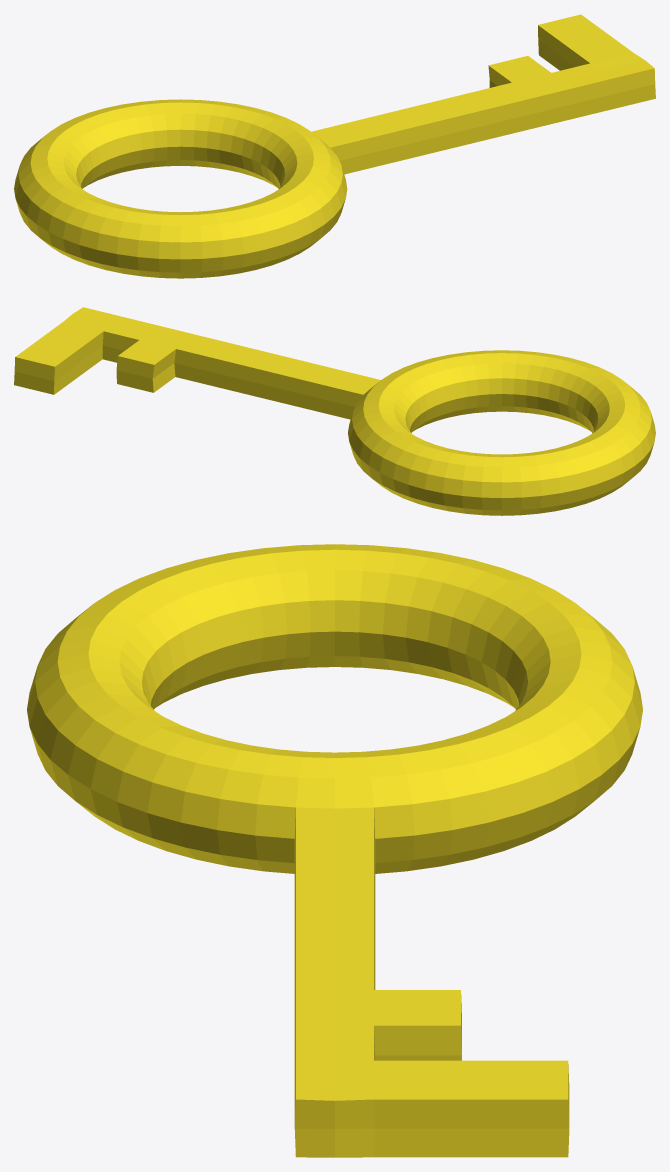
File: llave.fbx
3 renders of one model, top to bottom at view 1: azimuth 30°, elevation 25°; view 2: azimuth 150°, elevation 25°; view 3: azimuth 270°, elevation 25°, orthographic. The views are drawn at different scales.
Parts seen in each view (by area): view 1: Torus.001; view 2: Torus.001; view 3: Torus.001.
Part boxes in pixels (left/top/right/bottom): Torus.001: left=14, top=14, right=655, bottom=278; Torus.001: left=14, top=307, right=655, bottom=515; Torus.001: left=27, top=544, right=642, bottom=1157.
Size of the model in its own units: 330 by 31.22 by 156.
Materials: 1 (1 with a texture image).
